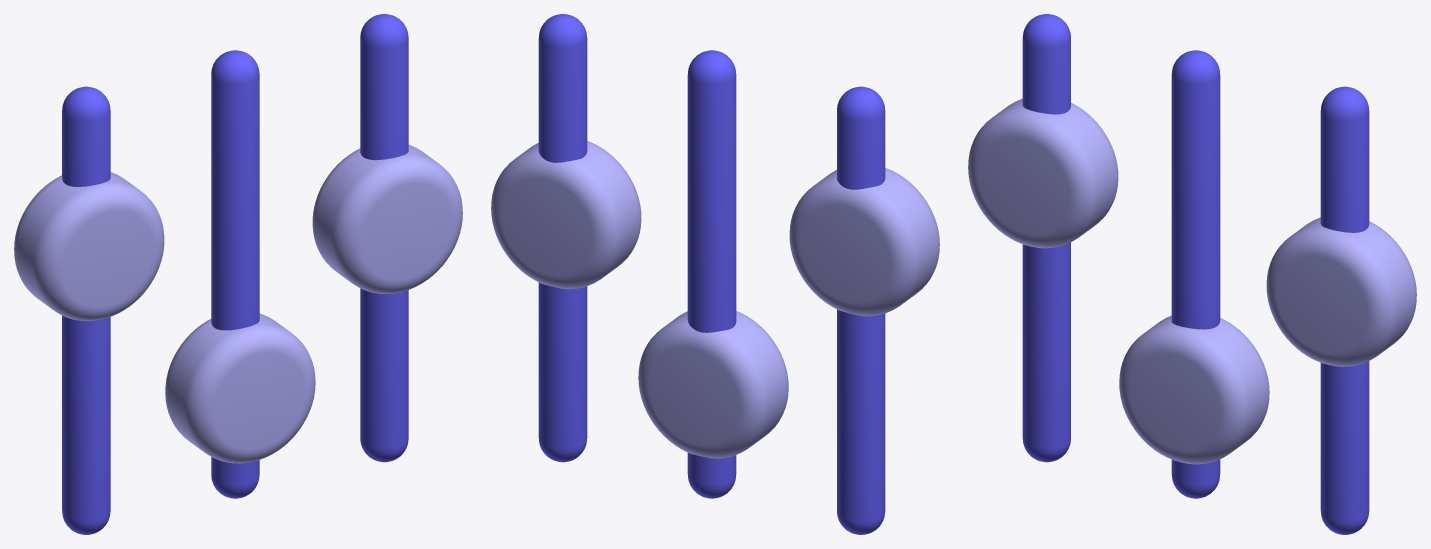
3 renders of one model, left to right at view 1: azimuth 30°, elevation 25°; view 2: azimuth 150°, elevation 25°; view 3: azimuth 330°, elevation 25°, orthographic.
Parts seen in each view (by area): view 1: Circle.001, Circle, Circle.002, Cylinder.001, Cylinder, Cylinder.002; view 2: Circle.001, Circle, Circle.002, Cylinder.001, Cylinder, Cylinder.002; view 3: Circle.002, Circle, Circle.001, Cylinder, Cylinder.001, Cylinder.002.
Boxes of the visible parts, x1,y1,x2,y2 form: Circle.001: (14, 172, 164, 321); Circle: (312, 144, 462, 293); Circle.002: (165, 313, 315, 463); Cylinder.001: (211, 50, 259, 498); Cylinder: (360, 14, 408, 462); Cylinder.002: (62, 86, 110, 534); Circle.001: (789, 168, 939, 316); Circle: (491, 141, 641, 289); Circle.002: (638, 311, 788, 458); Cylinder.001: (687, 50, 736, 498); Cylinder: (538, 14, 587, 462); Cylinder.002: (837, 86, 885, 534); Circle.002: (1119, 315, 1269, 464); Circle: (1266, 217, 1416, 366); Circle.001: (968, 98, 1118, 248); Cylinder: (1320, 86, 1369, 534); Cylinder.001: (1171, 50, 1220, 498); Cylinder.002: (1022, 14, 1070, 462).
Size of the model in its own units: 0.5666 by 0.563 by 0.088.
